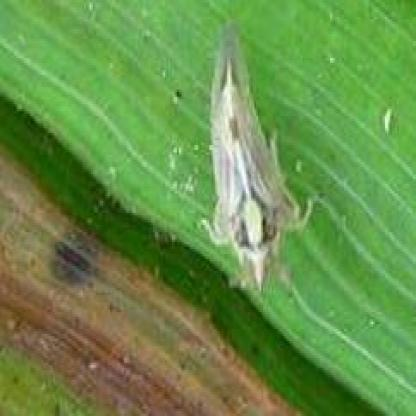brown-planthopper: (199, 15, 300, 289)
